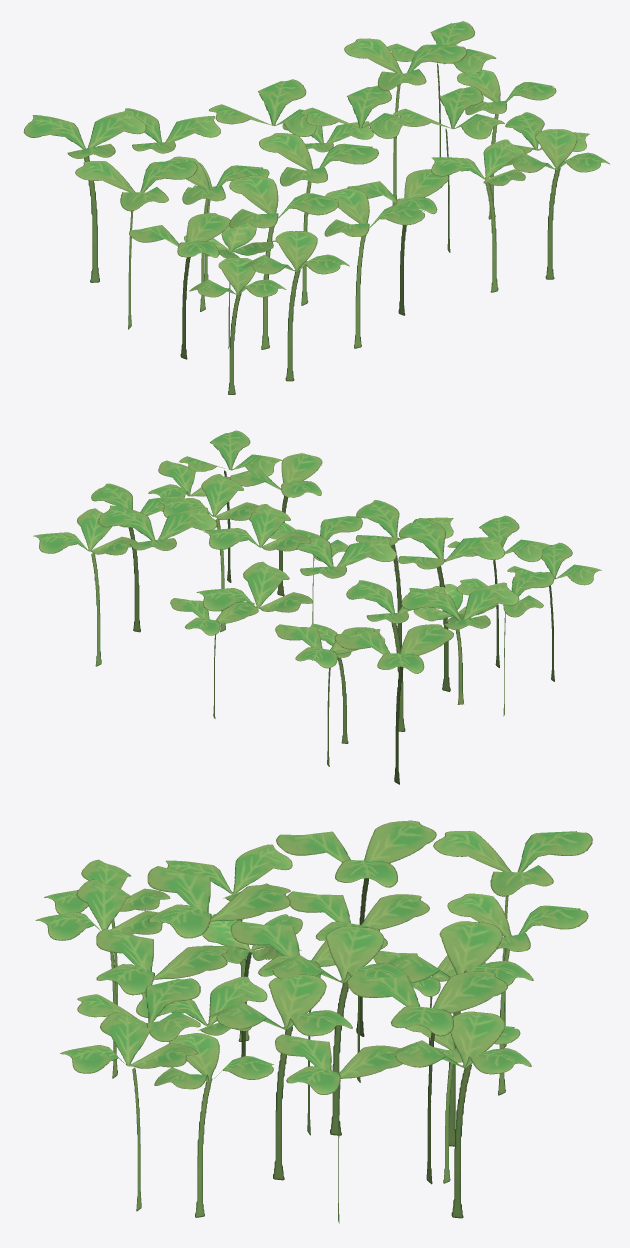
Rendered from LeafSetD_19.fbx.
3 views of the same model, one above another, from view 1: azimuth 30°, elevation 25°; view 2: azimuth 150°, elevation 25°; view 3: azimuth 270°, elevation 25° (orthographic). The views are drawn at different scales.
Visible parts, largest first — view 1: LeafSetD_19; view 2: LeafSetD_19; view 3: LeafSetD_19.
Boxes of the visible parts, x1,y1,x2,y2 form: LeafSetD_19: [23, 21, 609, 394]; LeafSetD_19: [33, 430, 601, 784]; LeafSetD_19: [35, 820, 592, 1223].
Size of the model in its own units: 0.8515 by 0.318 by 0.7362.
